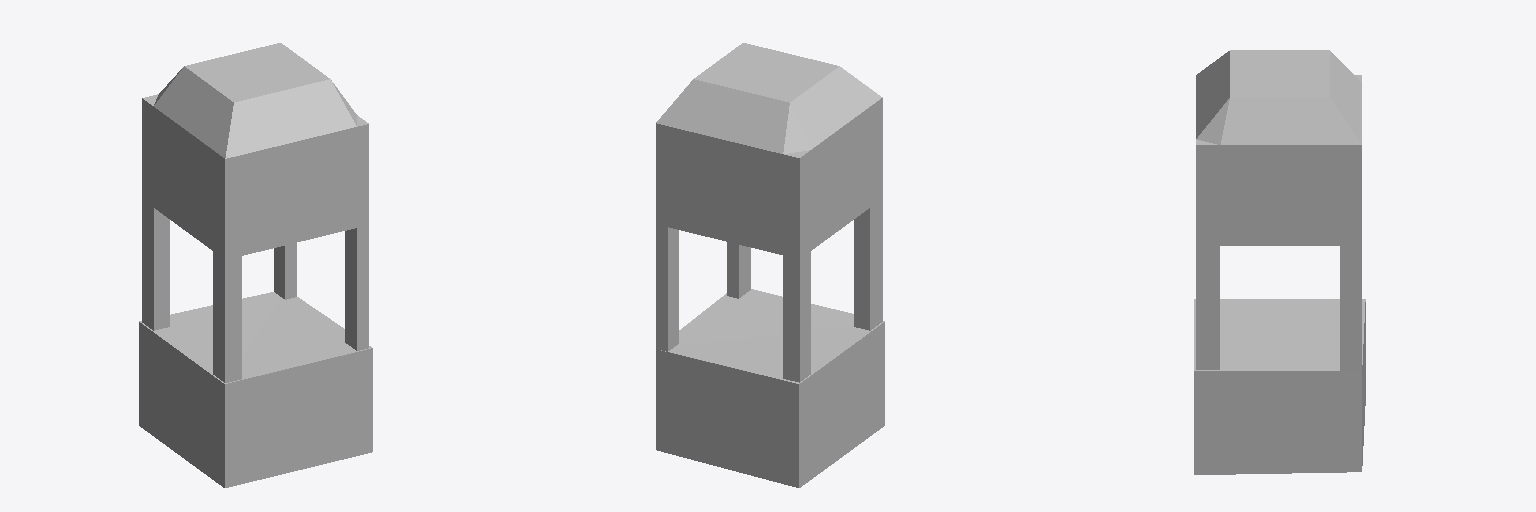
File: obstacle_9.obj
The picture shows the model from 3 angles: view 1: azimuth 30°, elevation 25°; view 2: azimuth 150°, elevation 25°; view 3: azimuth 270°, elevation 25°; orthographic projection.
Visible parts, largest first — view 1: Cube_Cube.007; view 2: Cube_Cube.007; view 3: Cube_Cube.007.
Boxes of the visible parts, box(x1,y1,x2,y2) form: Cube_Cube.007: box(139, 43, 372, 487); Cube_Cube.007: box(656, 43, 884, 487); Cube_Cube.007: box(1194, 50, 1365, 474).
Size of the model in its own units: 2.06 by 4.86 by 2.06.